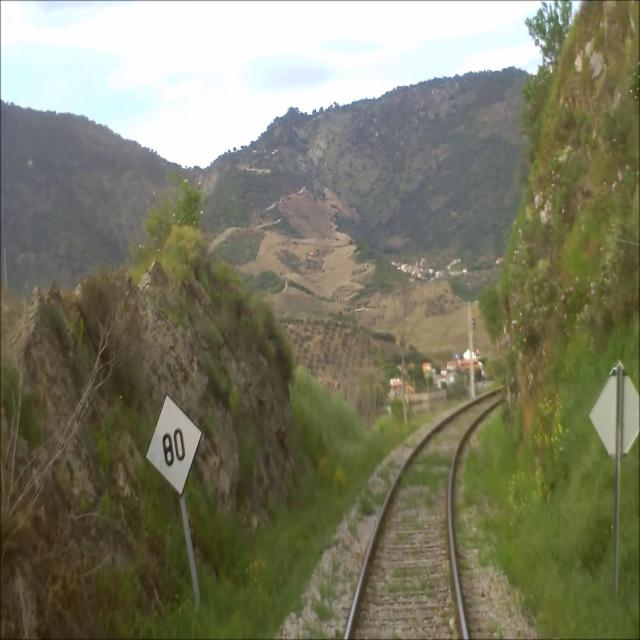rail-track: (349, 389, 504, 639)
